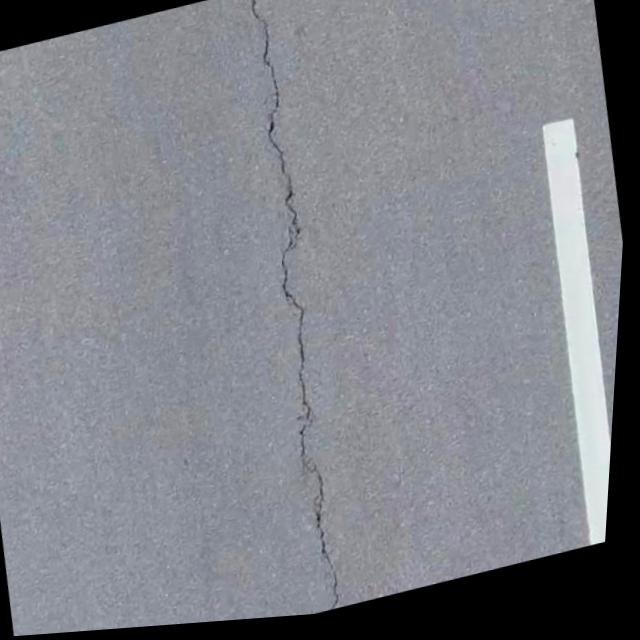Crack: (201, 0, 398, 627)
